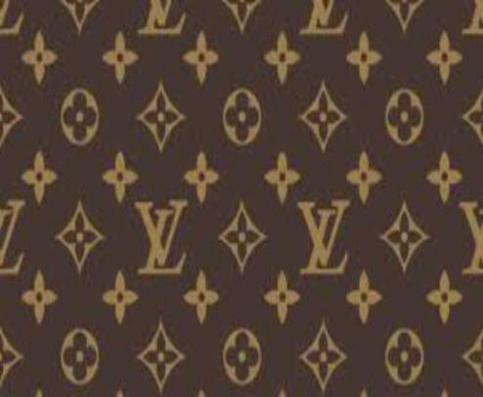LOUIS-VUITTON: (126, 184, 197, 284), (288, 188, 362, 282)
